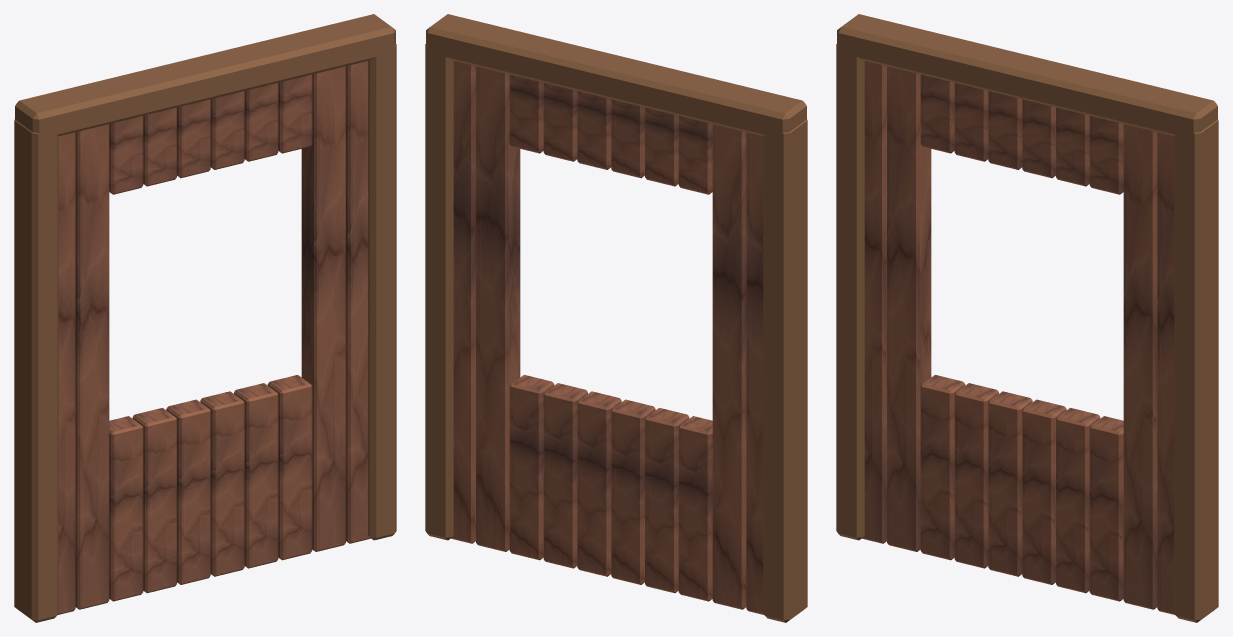
The model's file is Wall_Window_2m.glb.
The picture shows the model from 3 angles, left to right: view 1: azimuth 30°, elevation 25°; view 2: azimuth 150°, elevation 25°; view 3: azimuth 330°, elevation 25°; orthographic projection.
Parts seen in each view (by area): view 1: Wall_Window_2m__立方体.016, Wall_Window_2m__立方体.014, Wall_Window_2m__立方体.018, Wall_Window_2m__立方体.001, Wall_Window_2m__立方体.017, Wall_Window_2m__立方体.015, Wall_Window_2m__立方体, Wall_Window_2m__立方体.010, Wall_Window_2m__立方体.012, Wall_Window_2m__立方体.008, Wall_Window_2m__立方体.002, Wall_Window_2m__立方体.006 (+7 smaller); view 2: Wall_Window_2m__立方体.016, Wall_Window_2m__立方体.014, Wall_Window_2m__立方体.018, Wall_Window_2m__立方体.001, Wall_Window_2m__立方体.017, Wall_Window_2m__立方体.015, Wall_Window_2m__立方体, Wall_Window_2m__立方体.010, Wall_Window_2m__立方体.012, Wall_Window_2m__立方体.008, Wall_Window_2m__立方体.002, Wall_Window_2m__立方体.006 (+7 smaller); view 3: Wall_Window_2m__立方体.017, Wall_Window_2m__立方体.001, Wall_Window_2m__立方体.018, Wall_Window_2m__立方体.014, Wall_Window_2m__立方体.016, Wall_Window_2m__立方体, Wall_Window_2m__立方体.015, Wall_Window_2m__立方体.004, Wall_Window_2m__立方体.002, Wall_Window_2m__立方体.006, Wall_Window_2m__立方体.012, Wall_Window_2m__立方体.008 (+7 smaller).
Boxes of the visible parts, box(x1,y1,x2,y2) form: Wall_Window_2m__立方体.016: box(14, 119, 58, 622); Wall_Window_2m__立方体.014: box(301, 66, 345, 551); Wall_Window_2m__立方体.018: box(15, 14, 395, 138); Wall_Window_2m__立方体.001: box(75, 124, 109, 609); Wall_Window_2m__立方体.017: box(368, 44, 396, 540); Wall_Window_2m__立方体.015: box(346, 61, 370, 543); Wall_Window_2m__立方体: box(58, 132, 75, 614); Wall_Window_2m__立方体.010: box(234, 383, 278, 568); Wall_Window_2m__立方体.012: box(267, 375, 312, 560); Wall_Window_2m__立方体.008: box(200, 391, 244, 576); Wall_Window_2m__立方体.002: box(109, 416, 143, 601); Wall_Window_2m__立方体.006: box(166, 399, 210, 584); Wall_Window_2m__立方体.016: box(763, 119, 807, 622); Wall_Window_2m__立方体.014: box(476, 66, 520, 551); Wall_Window_2m__立方体.018: box(426, 14, 806, 138); Wall_Window_2m__立方体.001: box(712, 124, 746, 609); Wall_Window_2m__立方体.017: box(425, 44, 453, 540); Wall_Window_2m__立方体.015: box(451, 61, 475, 543); Wall_Window_2m__立方体: box(746, 132, 763, 614); Wall_Window_2m__立方体.010: box(543, 383, 587, 568); Wall_Window_2m__立方体.012: box(509, 375, 554, 560); Wall_Window_2m__立方体.008: box(577, 391, 621, 576); Wall_Window_2m__立方体.002: box(678, 416, 712, 601); Wall_Window_2m__立方体.006: box(611, 399, 655, 584); Wall_Window_2m__立方体.017: box(1174, 119, 1218, 622); Wall_Window_2m__立方体.001: box(887, 66, 931, 551); Wall_Window_2m__立方体.018: box(837, 14, 1217, 138); Wall_Window_2m__立方体.014: box(1123, 124, 1157, 609); Wall_Window_2m__立方体.016: box(836, 44, 864, 540); Wall_Window_2m__立方体: box(862, 61, 886, 543); Wall_Window_2m__立方体.015: box(1157, 132, 1174, 614); Wall_Window_2m__立方体.004: box(954, 383, 998, 568); Wall_Window_2m__立方体.002: box(920, 375, 965, 560); Wall_Window_2m__立方体.006: box(988, 391, 1032, 576); Wall_Window_2m__立方体.012: box(1089, 416, 1123, 601); Wall_Window_2m__立方体.008: box(1022, 399, 1066, 584).
Size of the model in its own units: 2.16 by 2.88 by 0.23.
6 materials, 5 textured.
